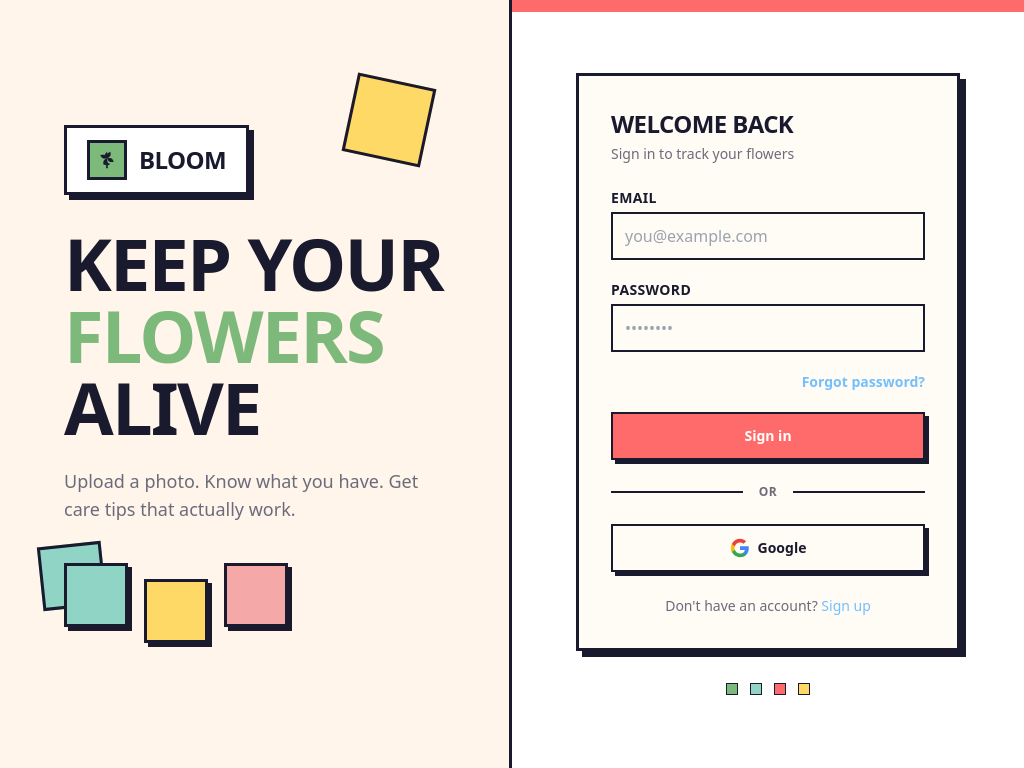
it: LoginPage › displays error message on login failure
Type "user@example.com" into the field labelled "Email" at (768, 236), box [611,212,925,260]
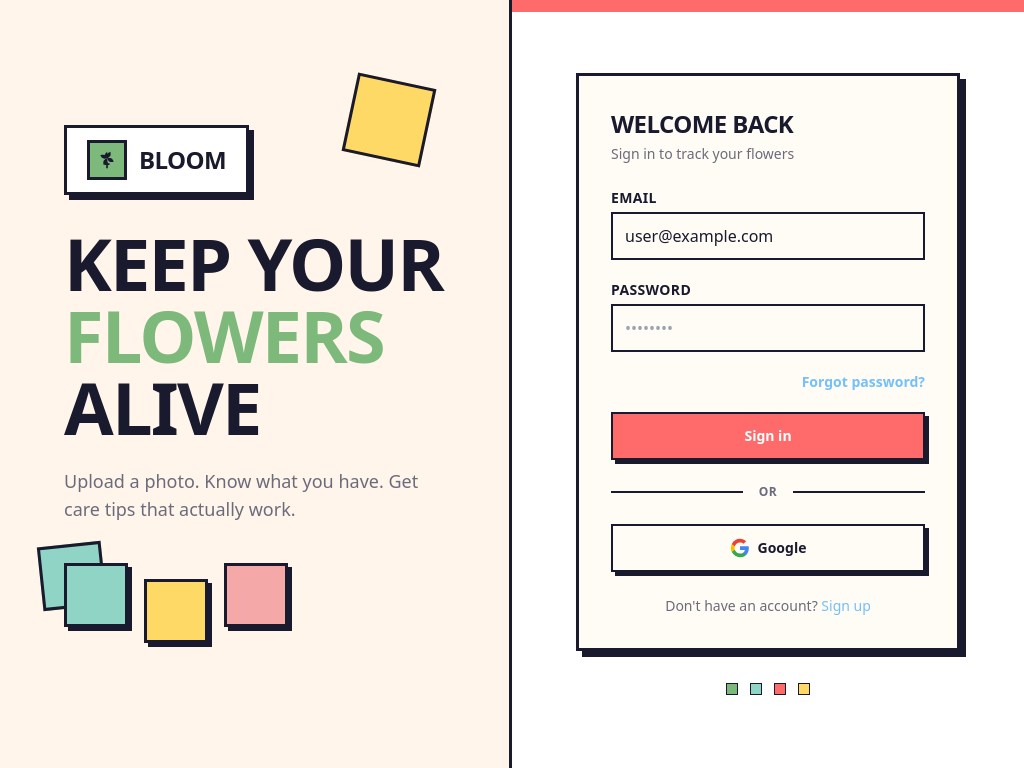
Type "wrongpassword" into the password field labelled "Password" at (768, 328), box [611,304,925,352]
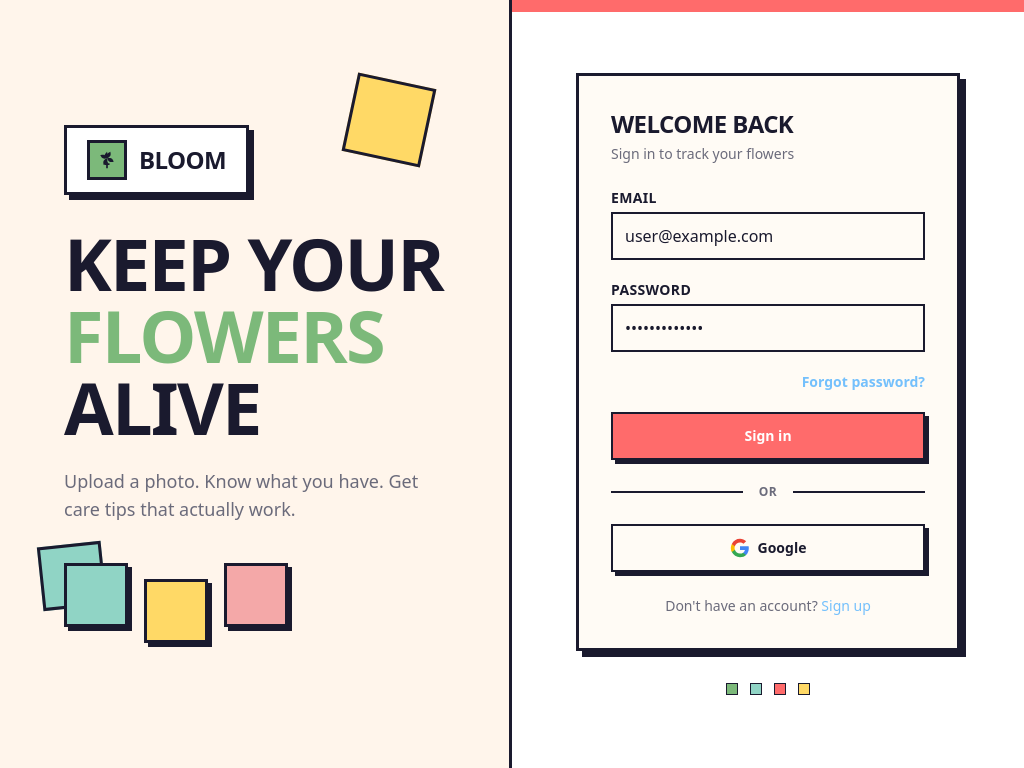
Click the button "Sign in" at (768, 436), box [611,412,925,460]
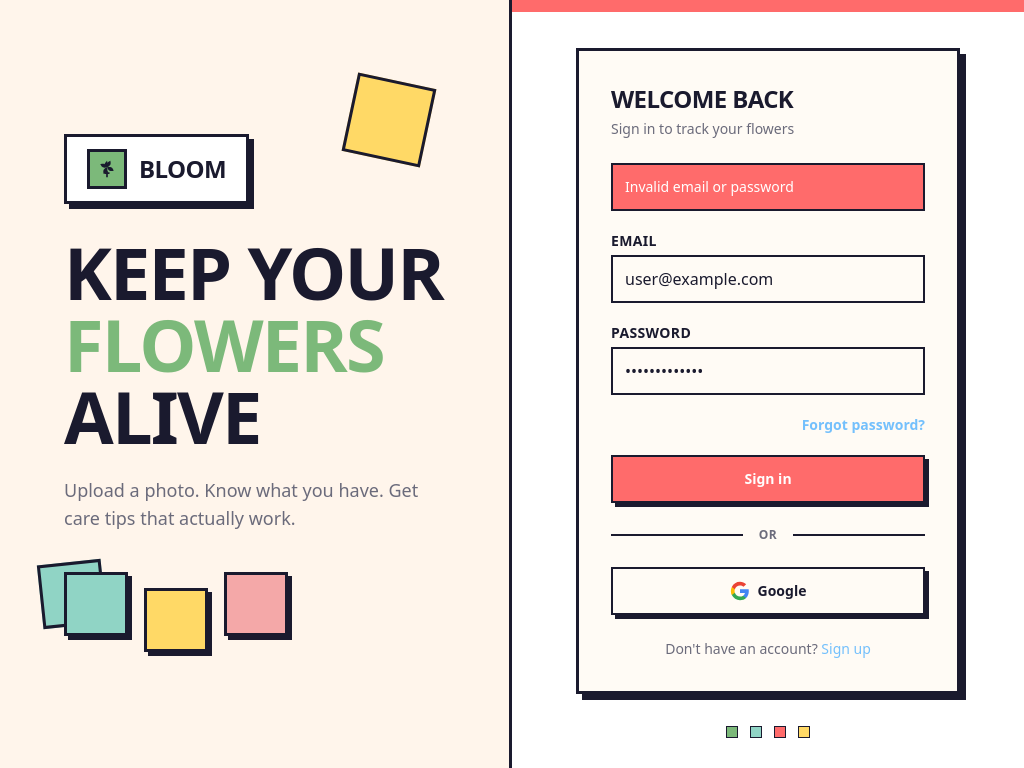
Check: the text "Invalid email or password" is shown, box [611,163,925,211]
